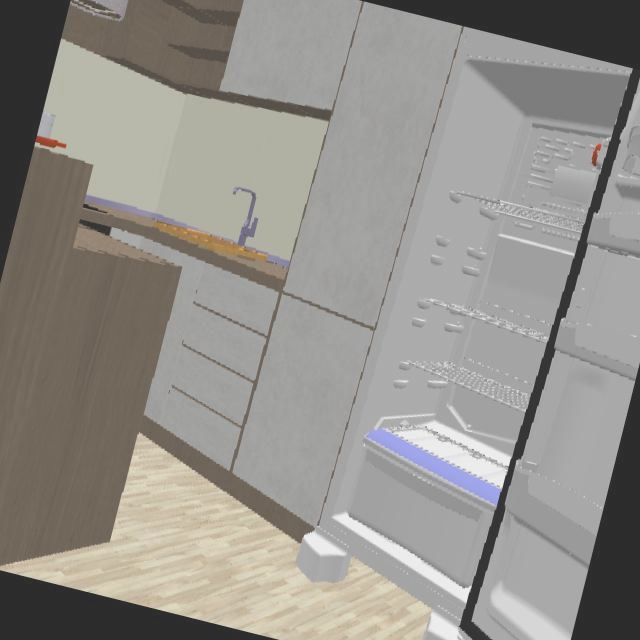cabinet: (0, 0, 461, 488)
countertop: (80, 196, 288, 285)
fridge: (314, 25, 640, 640)
sink: (152, 221, 288, 268)
